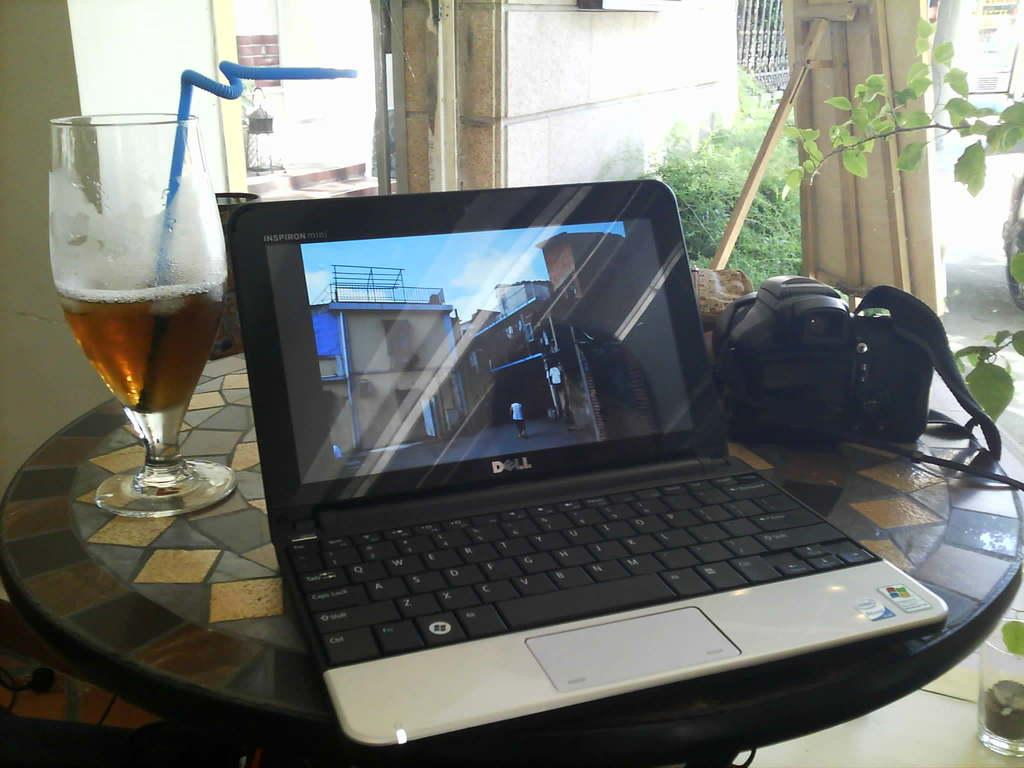Computer-keyboard: (287, 470, 881, 666)
Computer-monitor: (221, 172, 941, 757)
Laptop: (230, 179, 951, 749)
